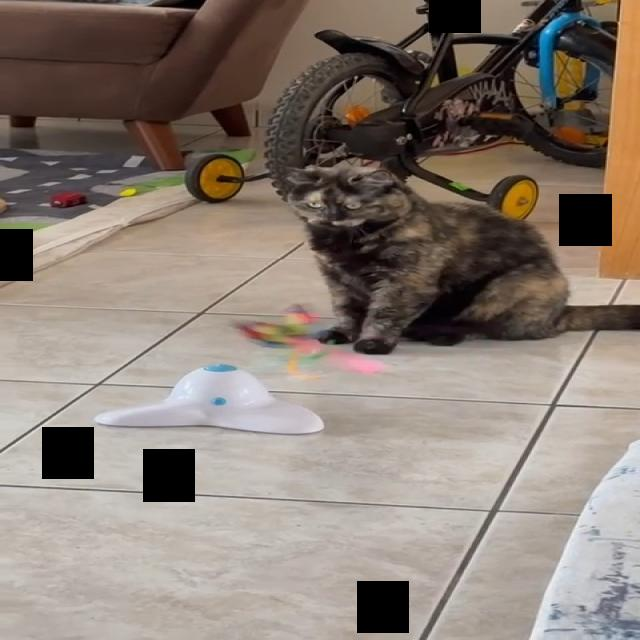authorized: (274, 160, 638, 354)
